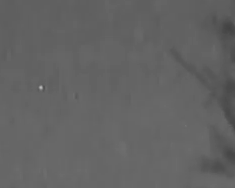Target: (40, 86, 43, 90)
